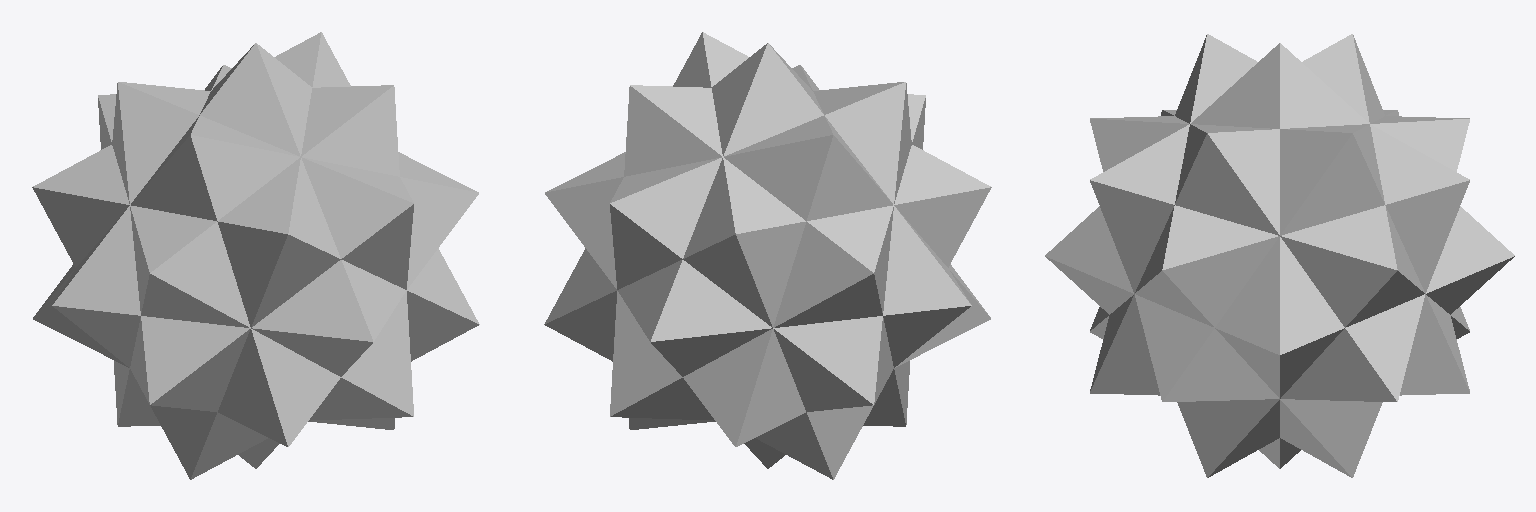
Rendered from 5-octahedra-compound.obj.
3 renders of one model, left to right at view 1: azimuth 30°, elevation 25°; view 2: azimuth 150°, elevation 25°; view 3: azimuth 270°, elevation 25°, orthographic.
Visible parts, largest first — view 1: Octahedra_5_Octahedra_5.001; view 2: Octahedra_5_Octahedra_5.001; view 3: Octahedra_5_Octahedra_5.001.
Boxes of the visible parts, x1,y1,x2,y2 form: Octahedra_5_Octahedra_5.001: [32, 32, 479, 479]; Octahedra_5_Octahedra_5.001: [544, 32, 991, 479]; Octahedra_5_Octahedra_5.001: [1045, 34, 1514, 477].
Bounding box in the file's own units: 10 × 10 × 10.